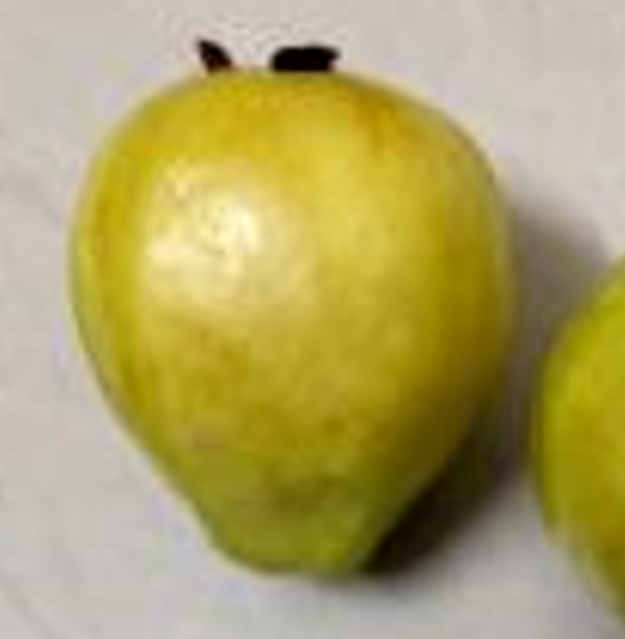guava_A: (67, 65, 519, 581)
